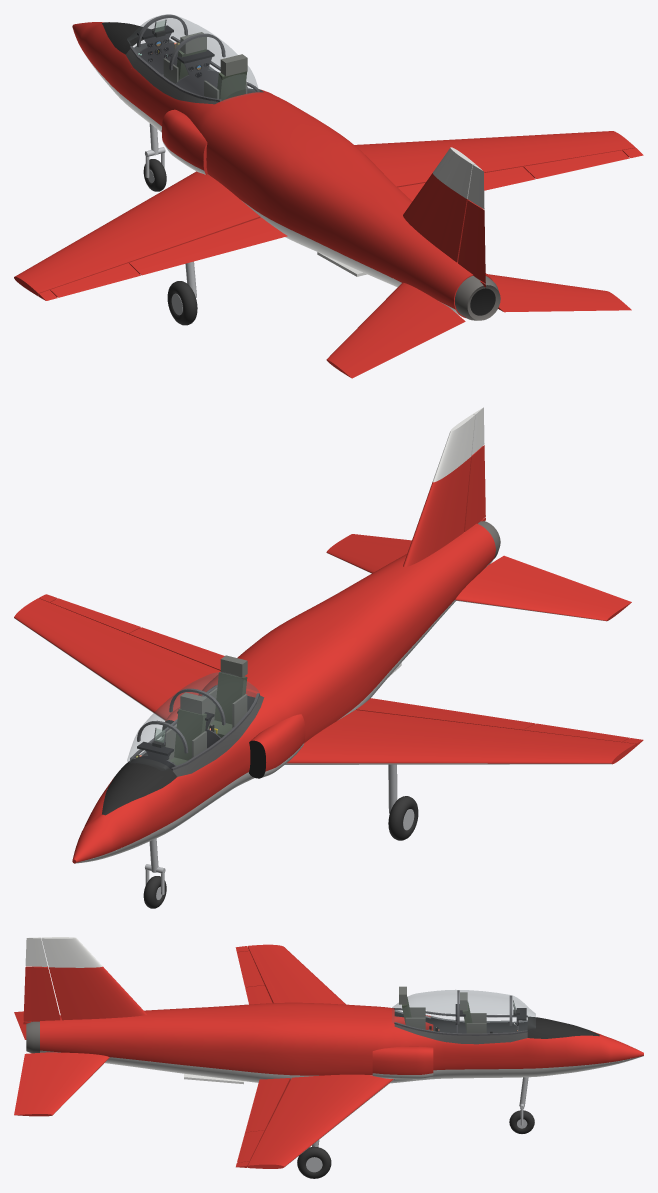
File: trainer.glb
The picture shows the model from 3 angles, top to bottom: view 1: azimuth 30°, elevation 25°; view 2: azimuth 150°, elevation 25°; view 3: azimuth 270°, elevation 25°; orthographic projection. The views are drawn at different scales.
Parts seen in each view (by area): view 1: body, elevator, cockpit, rudder, aileron_right, aileron_left, wheel_1, wheel_0; view 2: body, elevator, cockpit, rudder, wheel_1, aileron_right, aileron_left; view 3: body, elevator, cockpit, rudder, wheel_2, aileron_left, aileron_right, wheel_0.
Boxes of the visible parts, bbox=[...] form: body: bbox=[14, 14, 643, 320]; elevator: bbox=[326, 274, 631, 378]; cockpit: bbox=[130, 14, 259, 101]; rudder: bbox=[458, 200, 485, 283]; aileron_right: bbox=[523, 150, 629, 178]; aileron_left: bbox=[50, 263, 140, 297]; wheel_1: bbox=[167, 281, 197, 325]; wheel_0: bbox=[143, 159, 166, 191]; body: bbox=[14, 407, 643, 863]; elevator: bbox=[326, 534, 631, 621]; cockpit: bbox=[130, 655, 259, 770]; rudder: bbox=[464, 445, 485, 531]; wheel_1: bbox=[388, 796, 418, 840]; aileron_right: bbox=[50, 598, 140, 633]; aileron_left: bbox=[524, 723, 629, 742]; body: bbox=[23, 937, 643, 1168]; elevator: bbox=[14, 1011, 109, 1116]; cockpit: bbox=[394, 986, 527, 1035]; rudder: bbox=[23, 966, 60, 1021]; wheel_2: bbox=[297, 1146, 331, 1178]; aileron_left: bbox=[237, 951, 264, 987]; aileron_right: bbox=[237, 1130, 264, 1162]; wheel_0: bbox=[509, 1110, 534, 1133].
Size of the model in its own units: 9.39 by 3.98 by 11.37.
